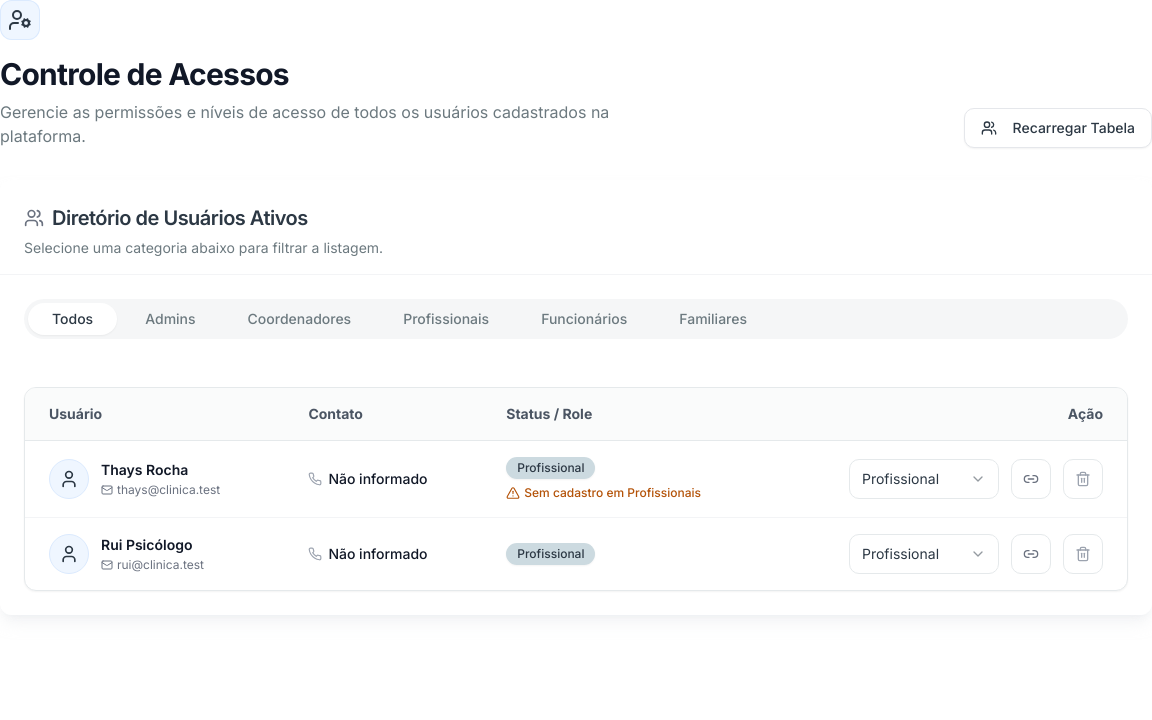
o admin liga na mão a conta ao cadastro feito com outro e-mail
Later steps or results of the test are not shown.
Click the button named "Cadastro de profissional de Thays Rocha".
click(1031, 479)  # box [1011, 459, 1051, 499]
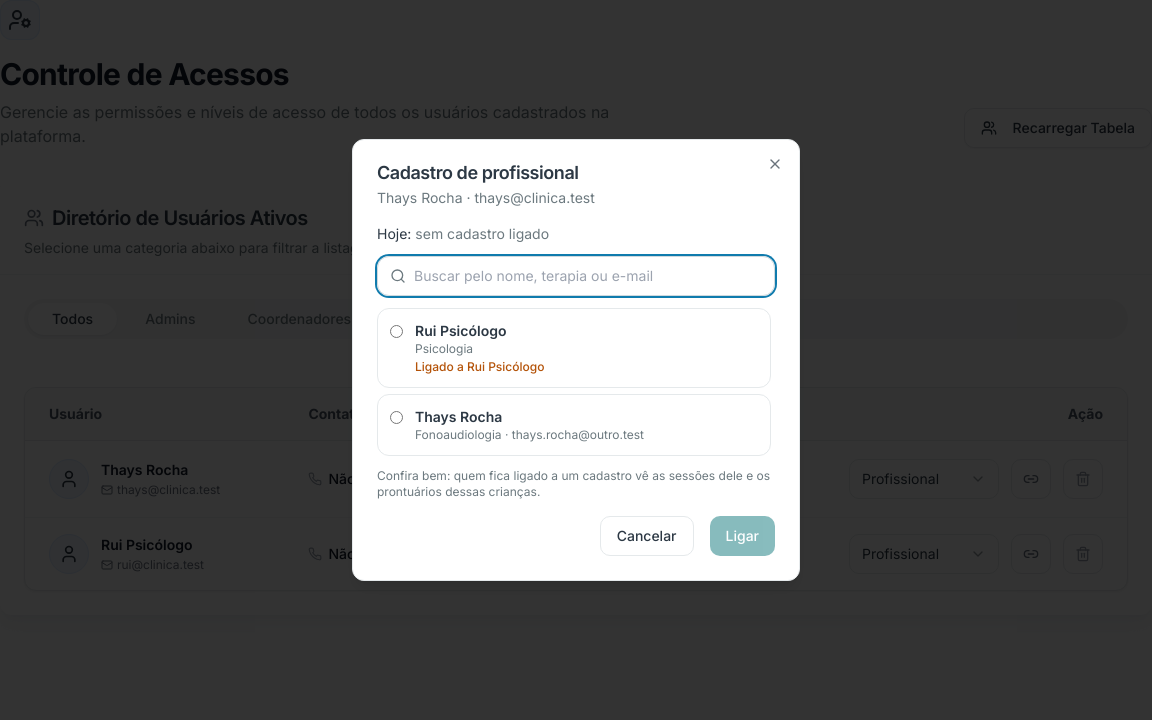
Expected: the text "sem cadastro ligado" is shown, [415, 225, 549, 242]
Type "fono" into the search field named "Buscar profissional".
click(588, 276); type("fono")  # box [414, 266, 762, 286]
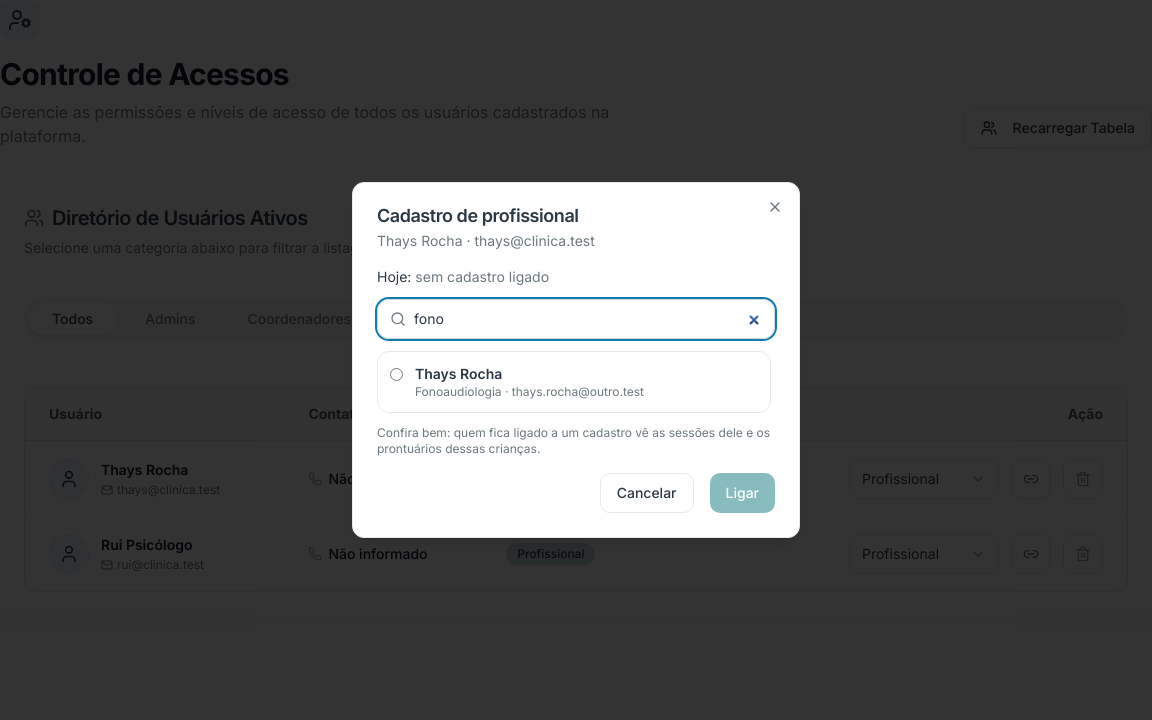
Expected: the number of radio buttons is 1, [390, 368, 403, 381]
